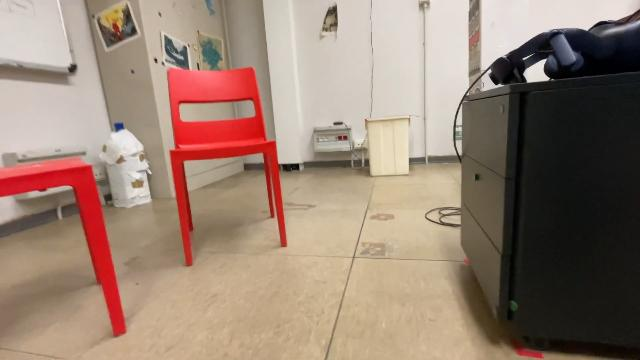Chair: (0, 153, 132, 360), (161, 64, 291, 274)
